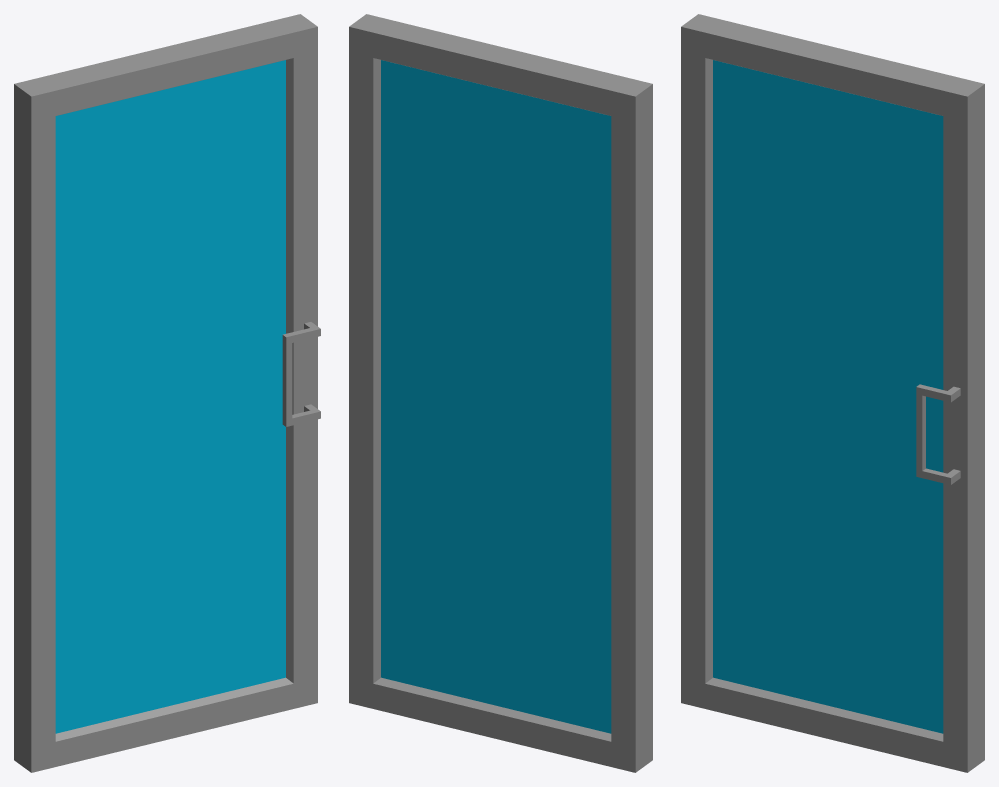
File: Glass Door.fbx
3 renders of one model, left to right at view 1: azimuth 30°, elevation 25°; view 2: azimuth 150°, elevation 25°; view 3: azimuth 330°, elevation 25°, orthographic.
Visible parts, largest first — view 1: Glass Door; view 2: Glass Door; view 3: Glass Door.
Boxes of the visible parts, x1,y1,x2,y2 form: Glass Door: [14, 14, 320, 772]; Glass Door: [349, 14, 652, 772]; Glass Door: [681, 14, 984, 772].
Size of the model in its own units: 1860 by 4196 by 306.
